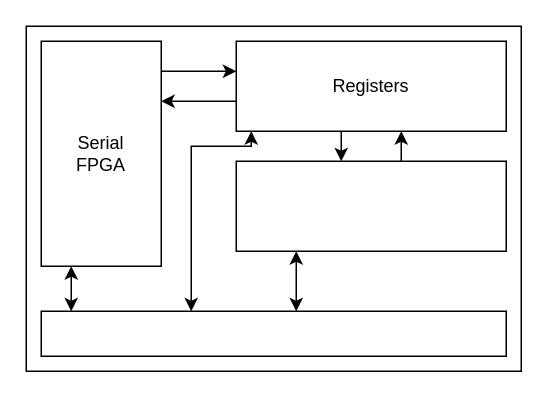
This 548x398 diagram has some shape labels left out. Here are the shapes that lost their labels. From the top down, the centre of each, then its label:
At (370,205): "XTEA Engines".
At (273,333): "Control".
